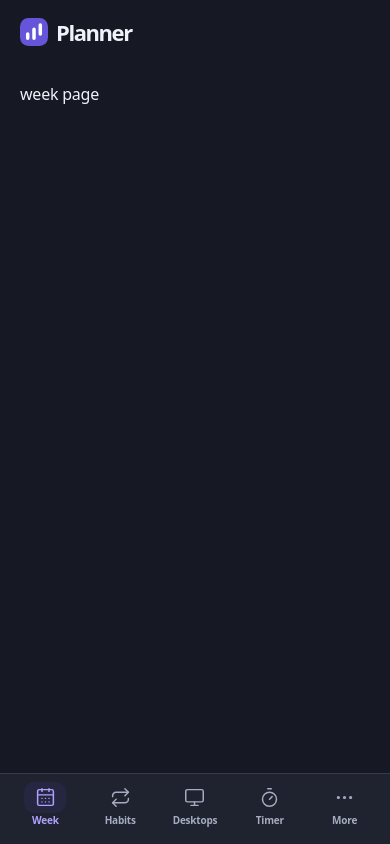
Scenario: mobile navigation › makes Notes reachable through More and closes after navigation
The width and height of the screenshot is (390, 844).
Click the button "More": (345, 808) [307,779,382,836]
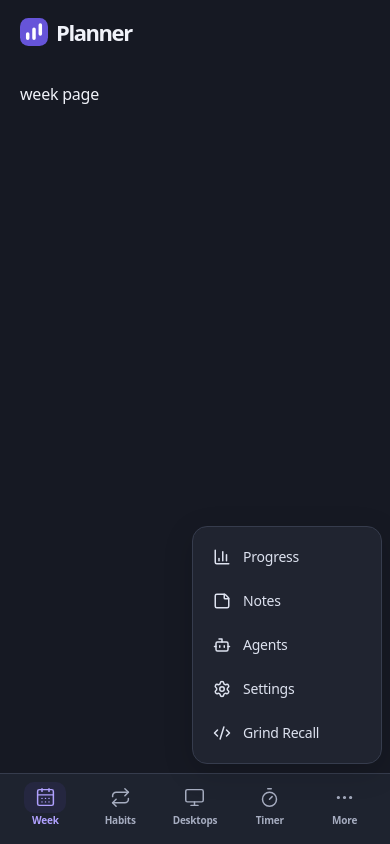
Click the link "Notes": (247, 600) [213,591,281,610]
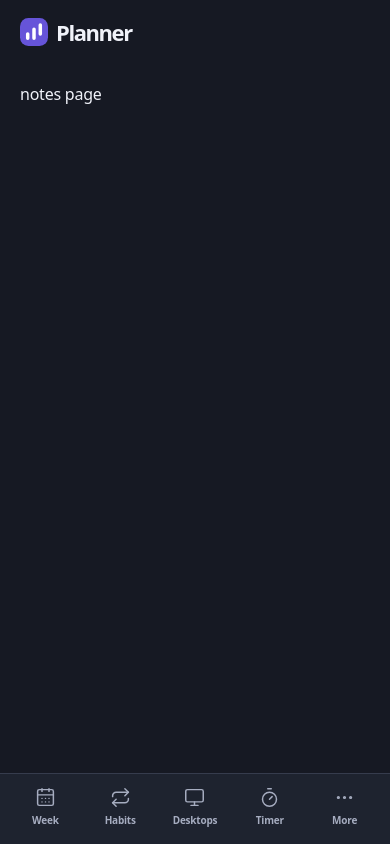
expect the text "notes page" is shown: met, box [20,83,102,105]
